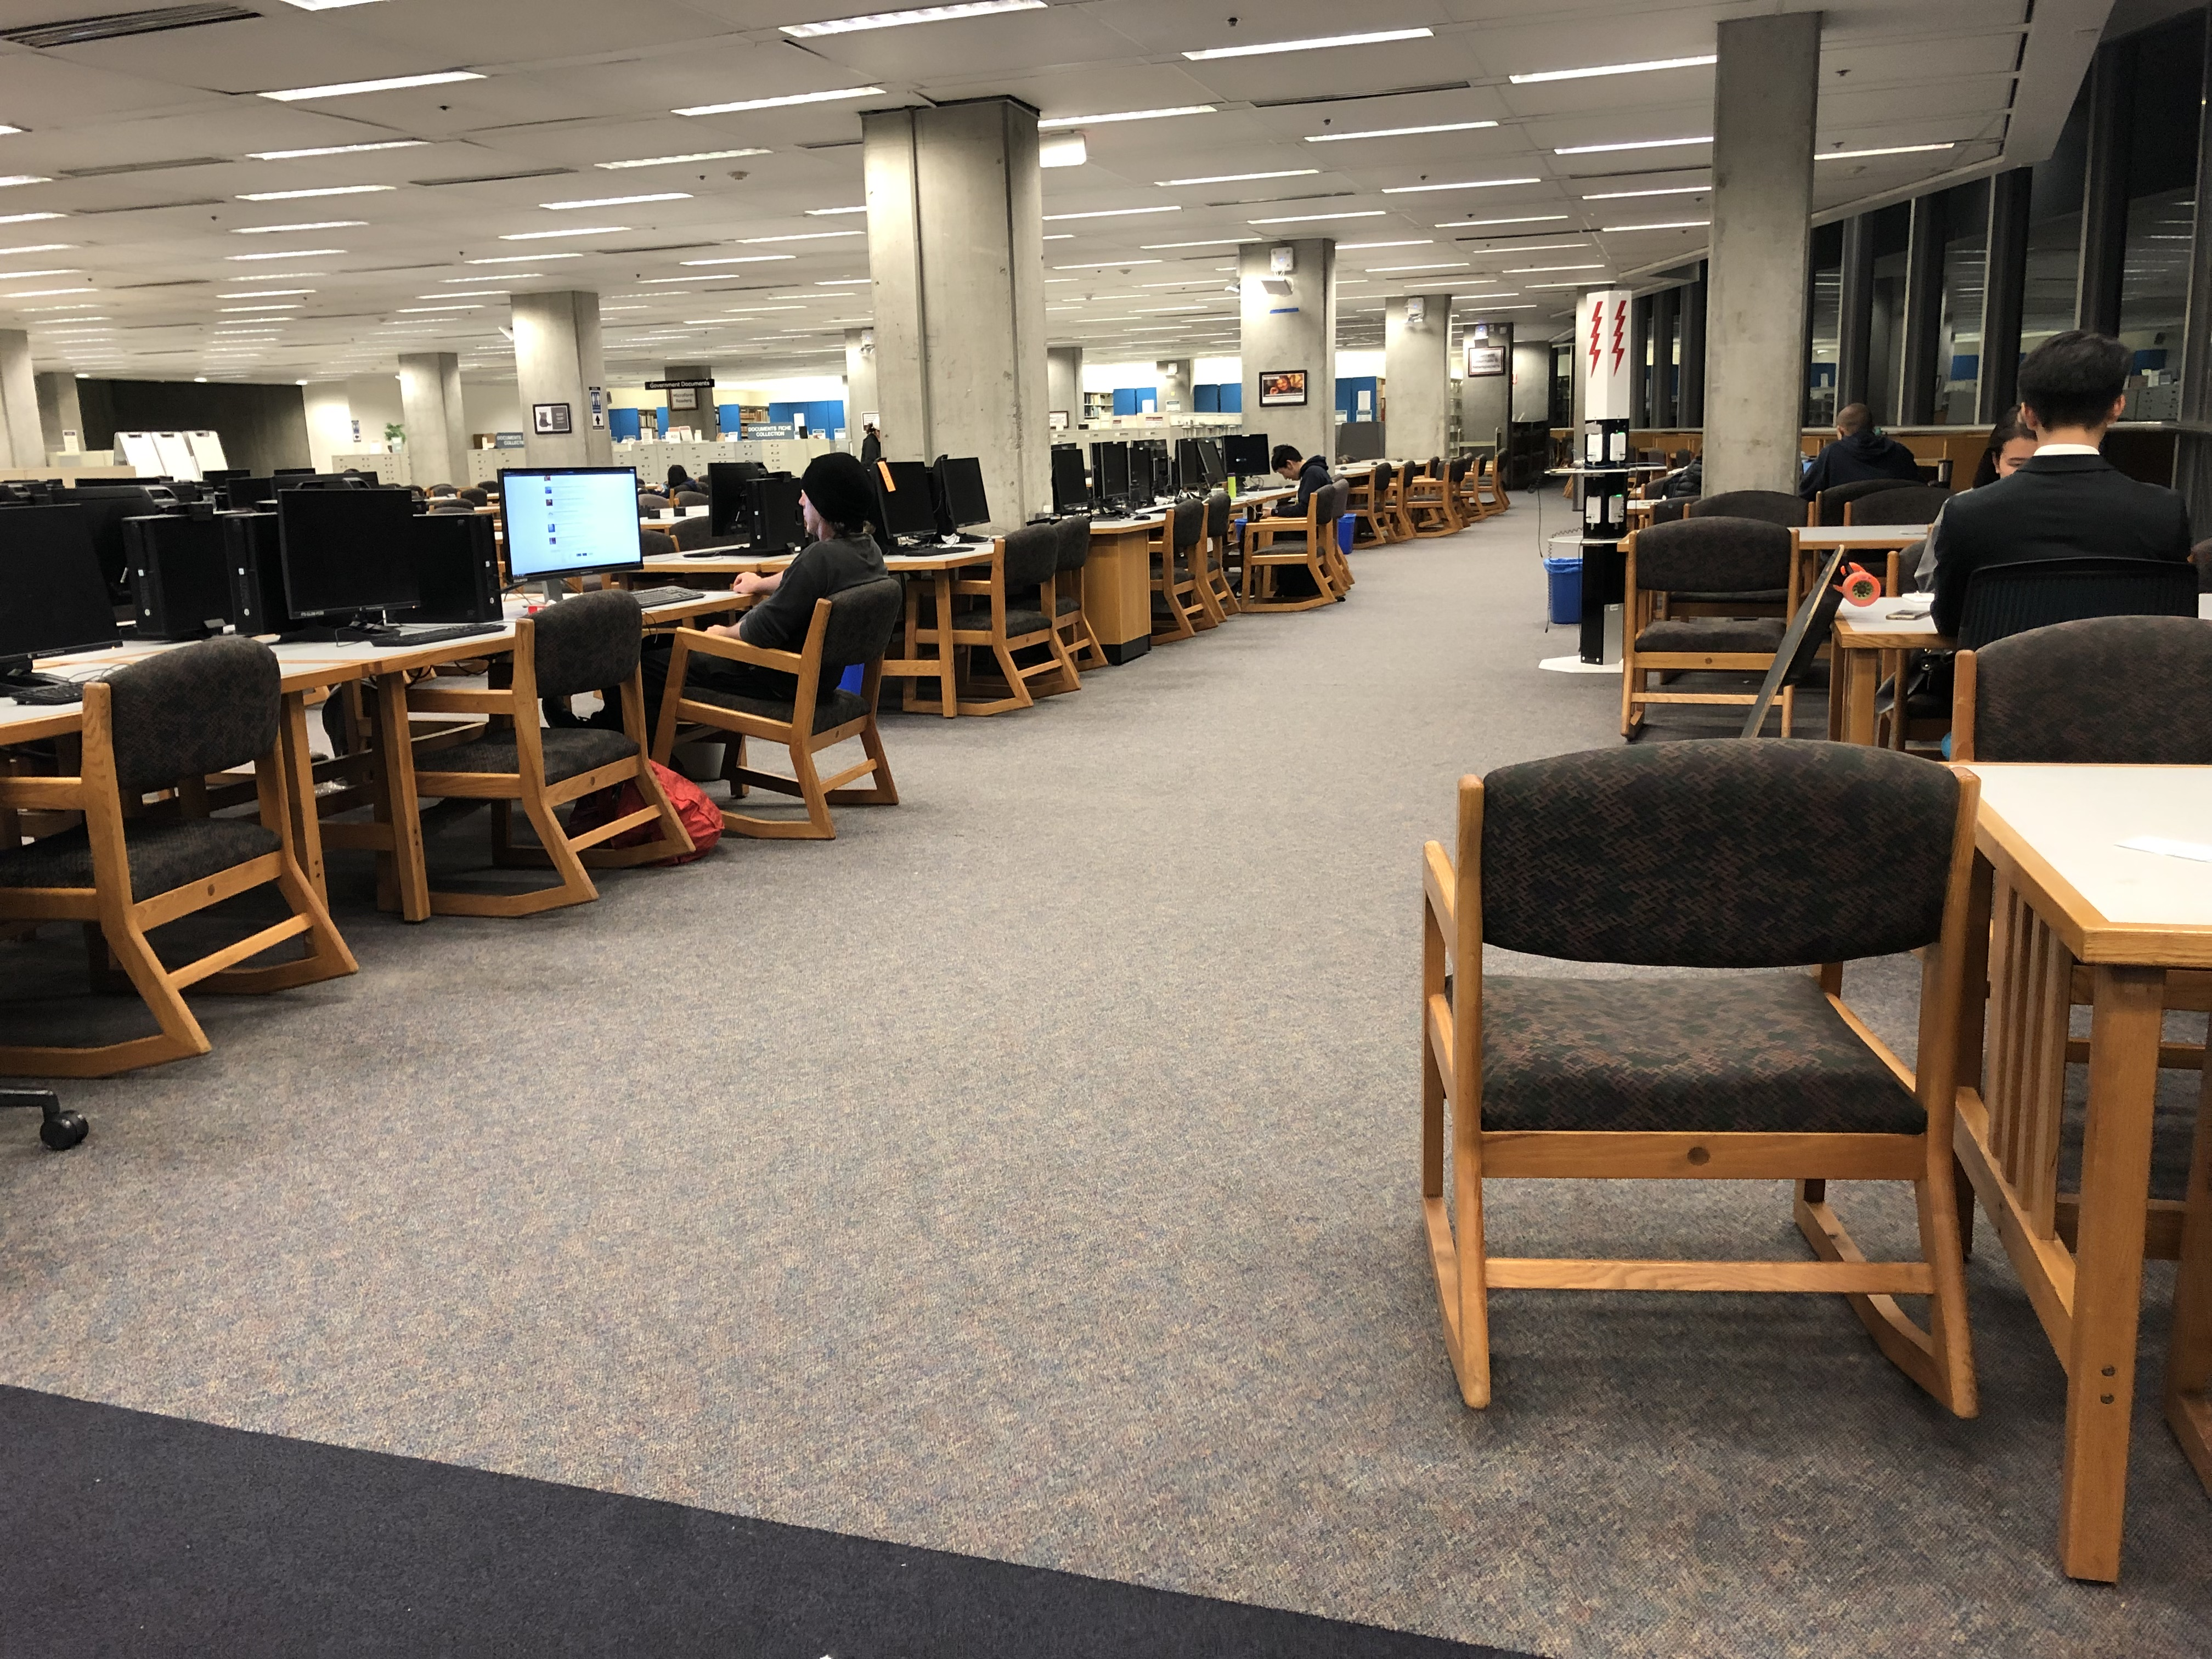Obstacle: (1390, 762, 2198, 1568), (10, 474, 897, 1012), (1583, 453, 2207, 760)
